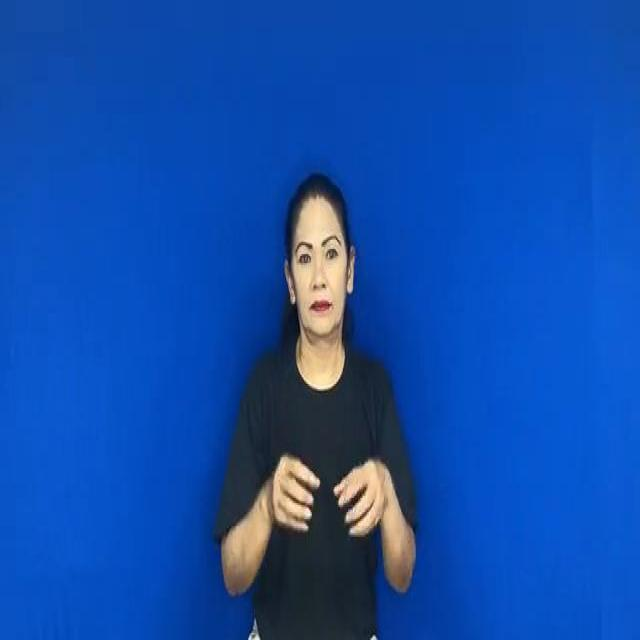egg: (263, 441, 391, 545)
